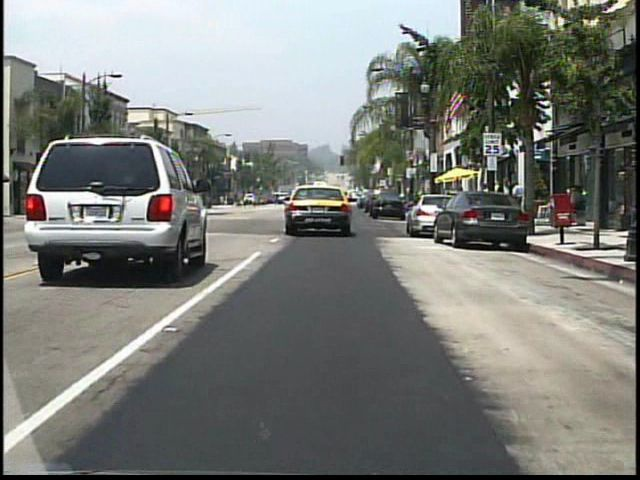person: (496, 176, 515, 215), (510, 180, 526, 222), (492, 180, 506, 217), (504, 183, 516, 216), (274, 190, 282, 206)
